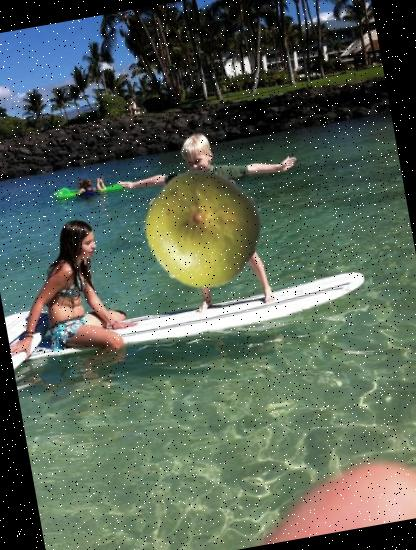Pomelo: (135, 162, 269, 296)
